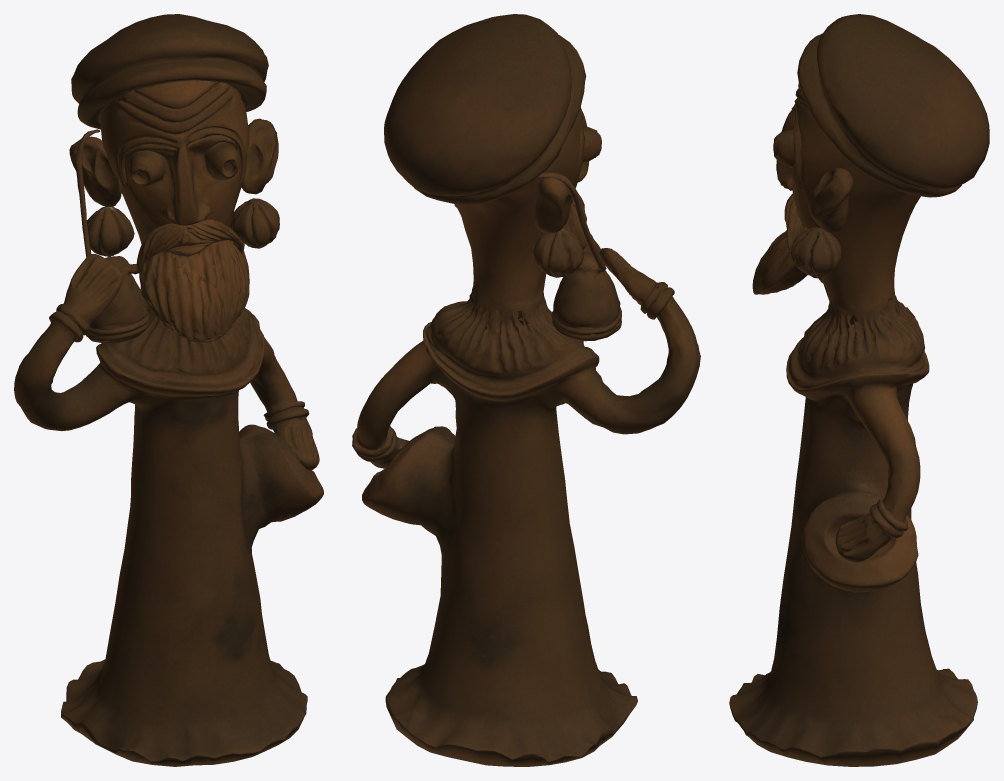
File: silent-sentinel.glb
The picture shows the model from 3 angles, left to right: view 1: azimuth 30°, elevation 25°; view 2: azimuth 150°, elevation 25°; view 3: azimuth 270°, elevation 25°; orthographic projection.
Parts seen in each view (by area): view 1: silent-sentinel; view 2: silent-sentinel; view 3: silent-sentinel.
Part boxes in pixels (box(x1,y1,x2,y2)): silent-sentinel: box(14, 14, 323, 766); silent-sentinel: box(352, 14, 700, 766); silent-sentinel: box(729, 14, 989, 766).
Bounding box in the file's own units: 0.2133 × 0.45 × 0.1538.
1 material, 1 textured.
